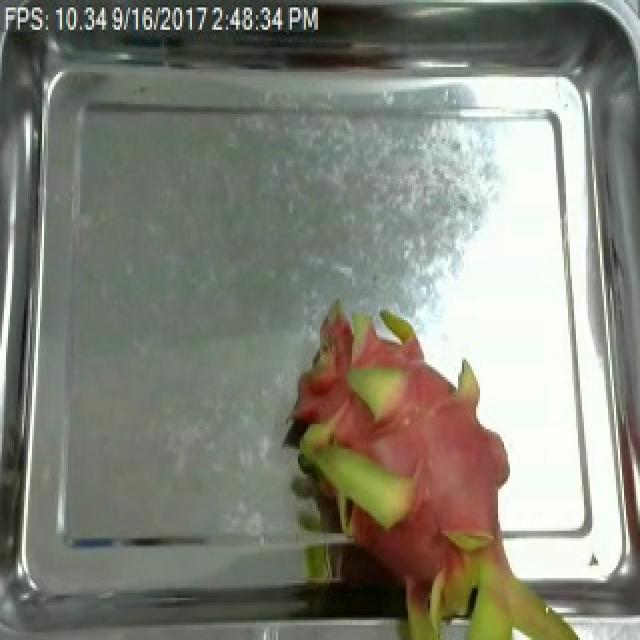fruit: (256, 288, 544, 640)
